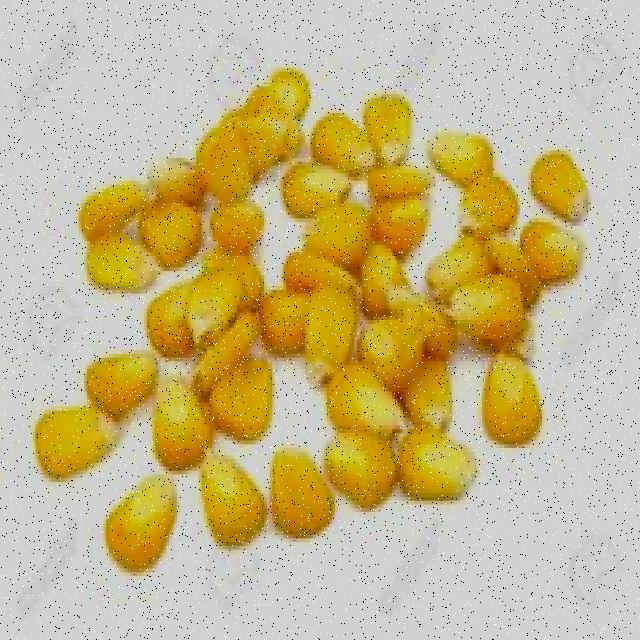Corn: (48, 89, 622, 583)
